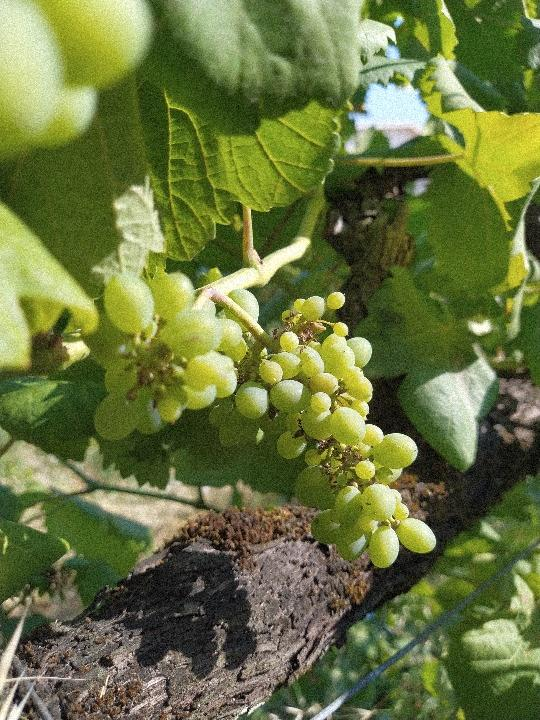grape: (208, 288, 441, 570), (81, 268, 249, 447)
